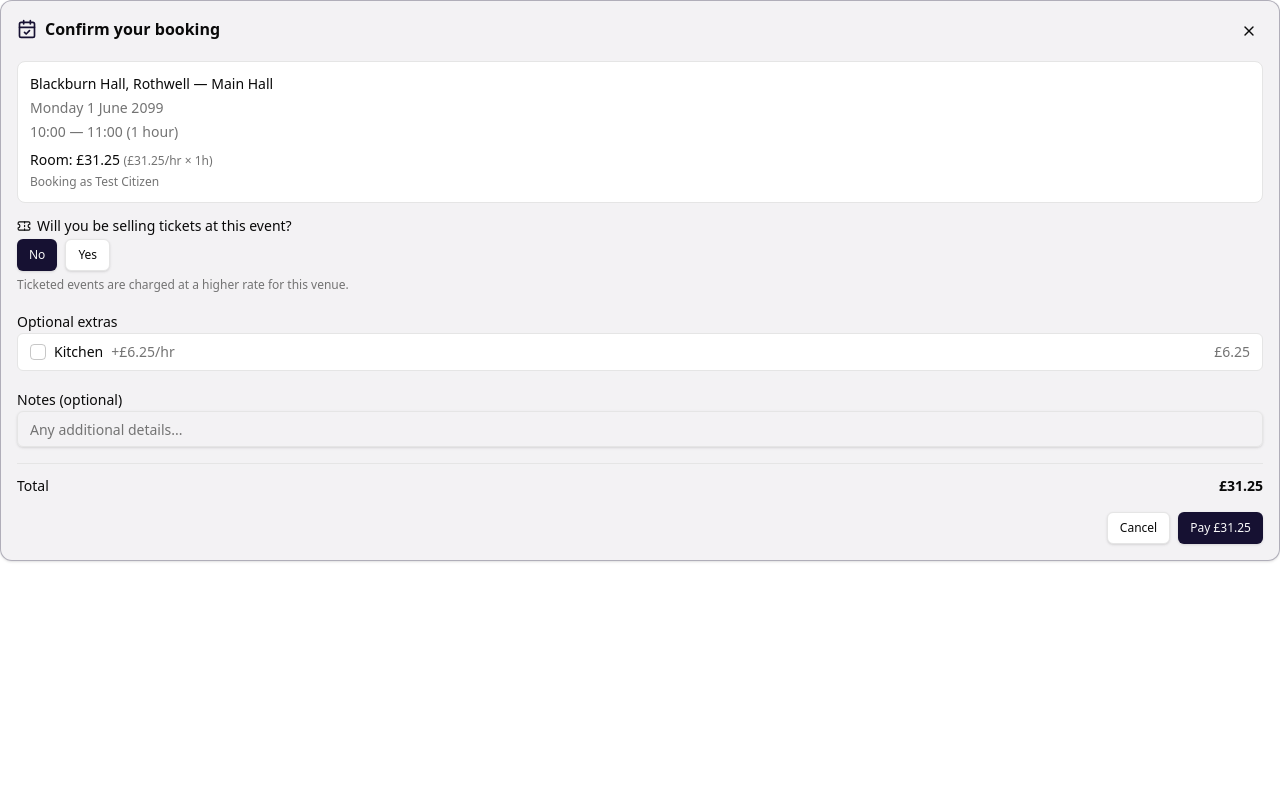
Scenario: CitizenBookingForm › re-prices when 'selling tickets' is toggled to Yes
Check: the text "Will you be selling tickets at this event?" is shown, box [17,216,292,235]
Click the button "Yes" at point(88, 255), box [65,239,110,271]
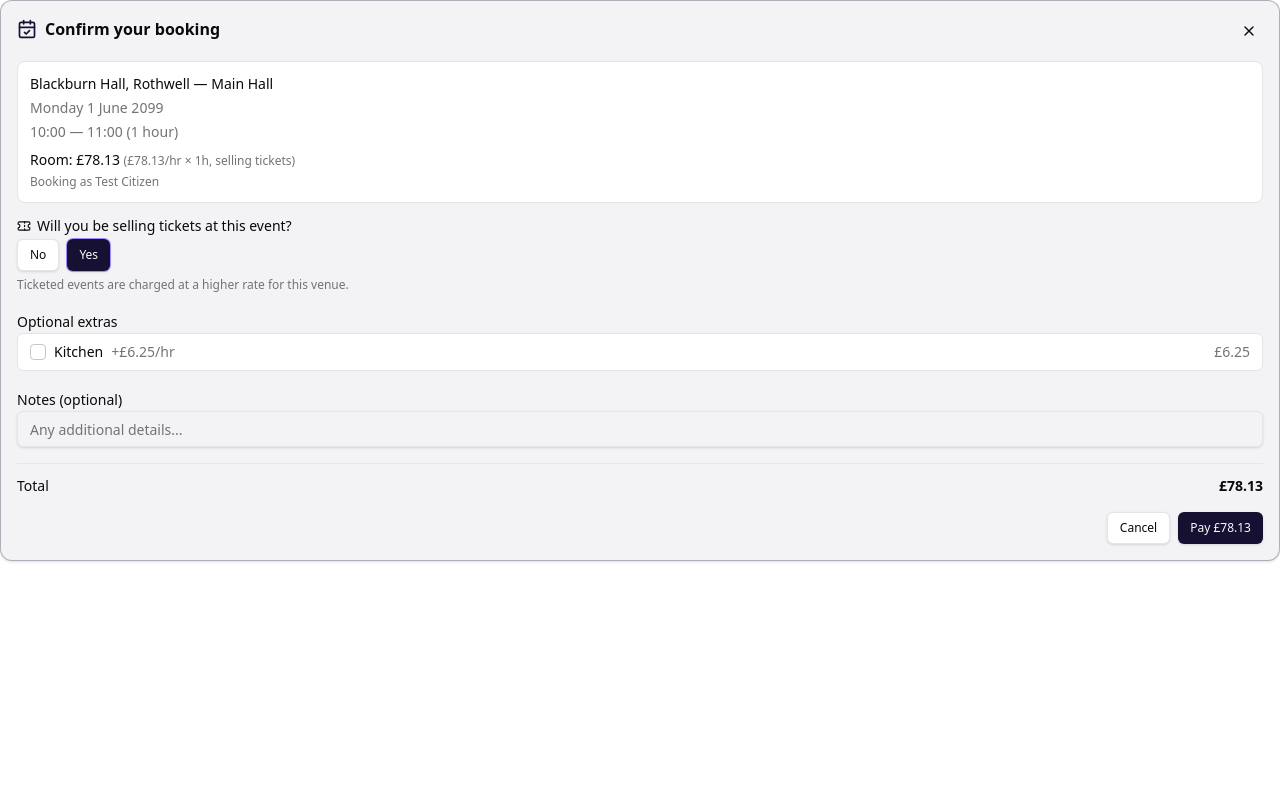
Check: the button "Pay £78.13" is shown, box [1178,512,1263,544]
